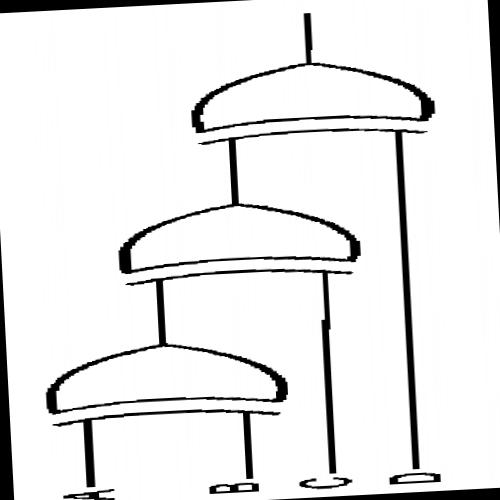xor: (160, 40, 466, 164), (27, 322, 306, 448), (99, 184, 378, 302)
